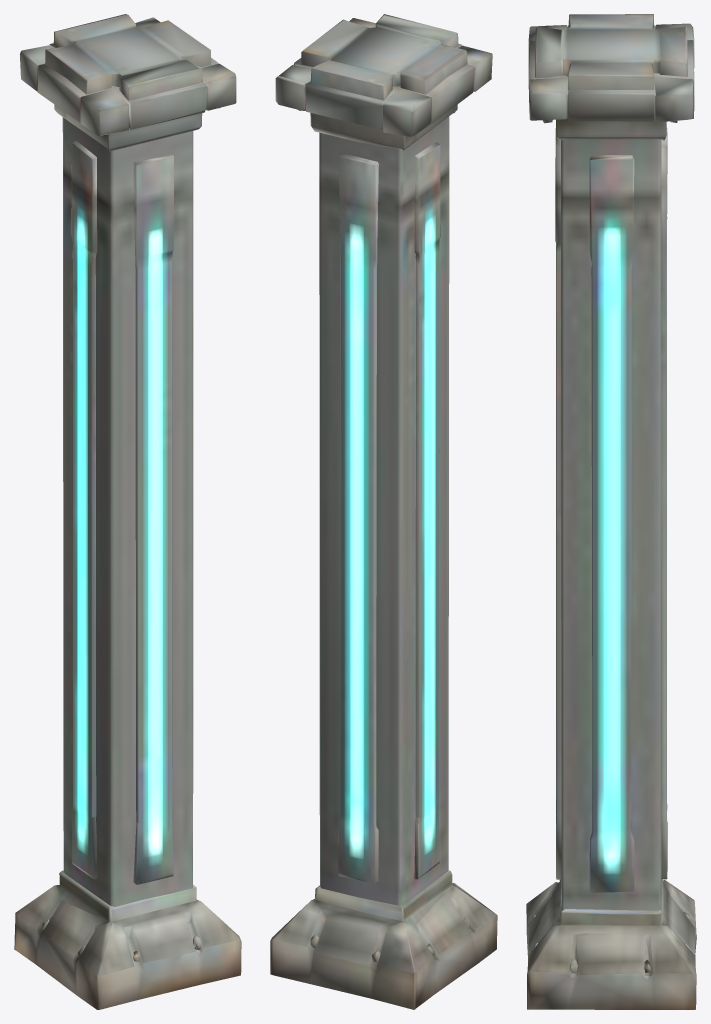
File: pillar.lod1.glb
3 views of the same model, side by side, from view 1: azimuth 30°, elevation 25°; view 2: azimuth 150°, elevation 25°; view 3: azimuth 270°, elevation 25° (orthographic).
Size of the model in its own units: 0.4983 by 3 by 0.4983.
Materials: 1 (1 with a texture image).
